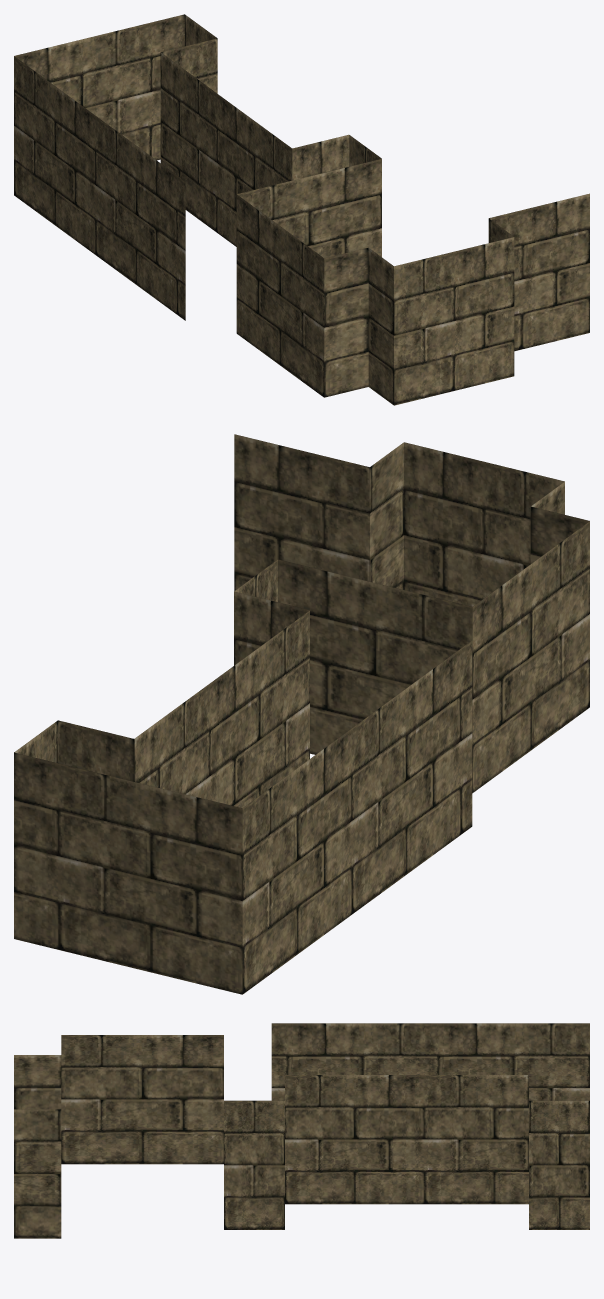
The model's file is OVERHILL_A_01_LINE389.fbx.
3 renders of one model, top to bottom at view 1: azimuth 30°, elevation 25°; view 2: azimuth 150°, elevation 25°; view 3: azimuth 270°, elevation 25°, orthographic. The views are drawn at different scales.
Visible parts, largest first — view 1: OVERHILL_A_01_LINE389; view 2: OVERHILL_A_01_LINE389; view 3: OVERHILL_A_01_LINE389.
Part boxes in pixels (<box>): OVERHILL_A_01_LINE389: <box>14,14,589,405</box>; OVERHILL_A_01_LINE389: <box>14,434,589,994</box>; OVERHILL_A_01_LINE389: <box>14,1023,589,1238</box>.
Bounding box in the file's own units: 46000 × 21050 × 85000.
1 material, 1 textured.
